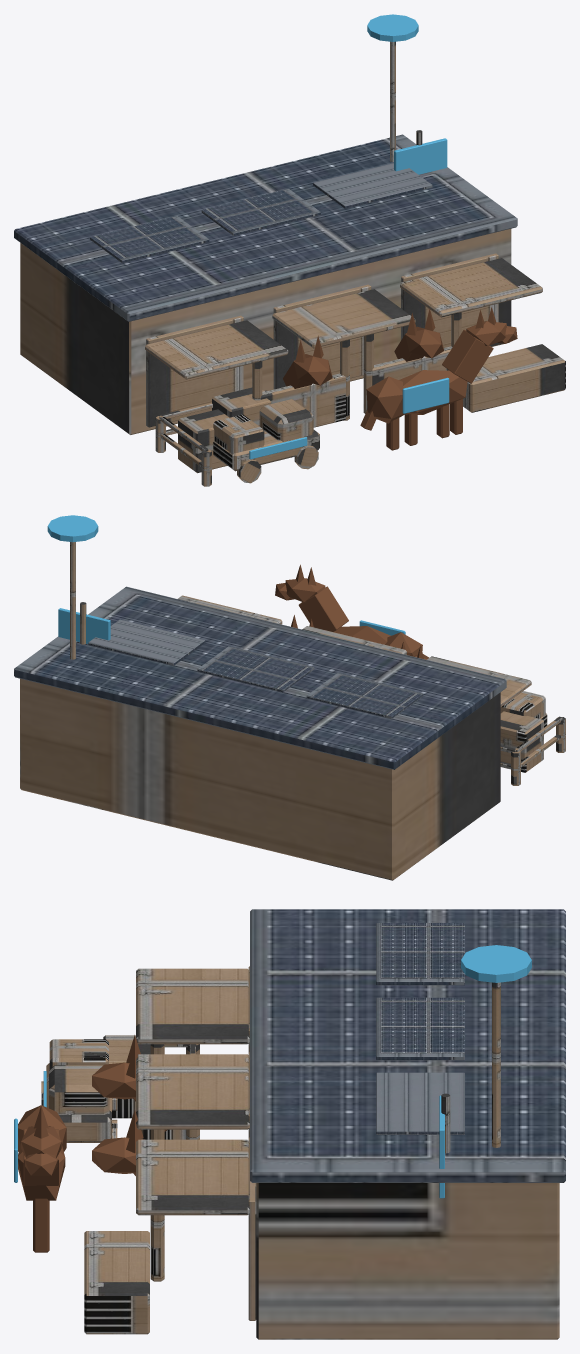
The model's file is edificio-b_017-e5-lod0-Cyi1mvZ4.glb.
3 renders of one model, top to bottom at view 1: azimuth 30°, elevation 25°; view 2: azimuth 150°, elevation 25°; view 3: azimuth 270°, elevation 25°, orthographic. The views are drawn at different scales.
Parts seen in each view (by area): view 1: envolvente_establo, caballos_establo, team_color; view 2: envolvente_establo, caballos_establo, team_color; view 3: envolvente_establo, caballos_establo, team_color.
Part boxes in pixels (bbox=[...]): envolvente_establo: bbox=[14, 41, 565, 486]; caballos_establo: bbox=[283, 307, 517, 450]; team_color: bbox=[249, 14, 449, 459]; envolvente_establo: bbox=[14, 542, 565, 880]; caballos_establo: bbox=[275, 564, 429, 659]; team_color: bbox=[47, 515, 405, 643]; envolvente_establo: bbox=[41, 909, 565, 1339]; caballos_establo: bbox=[18, 1035, 167, 1252]; team_color: bbox=[14, 945, 531, 1198].
Bounding box in the file's own units: 49 × 31.4 × 43.66.
Materials: 3 (1 with a texture image).
